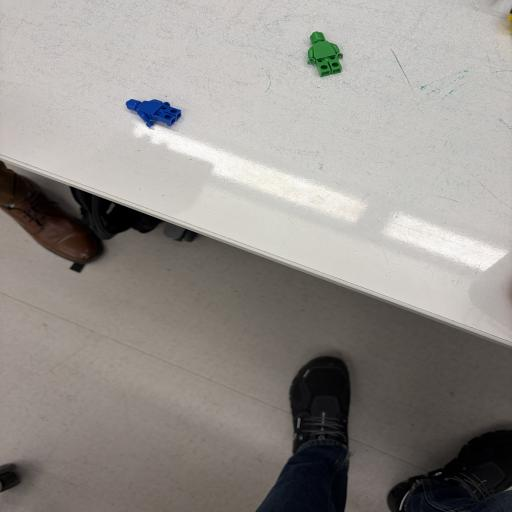Blue-Lego: (126, 99, 181, 127)
Green-Lego: (307, 31, 343, 77)
